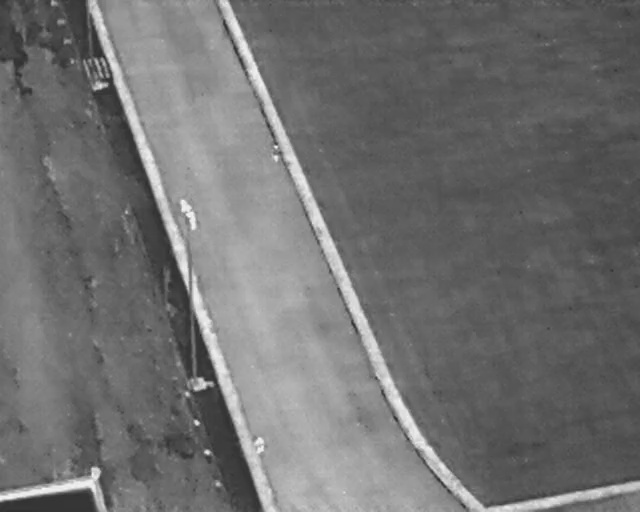Person: (271, 141, 281, 166), (185, 210, 197, 230), (178, 197, 192, 214), (255, 436, 264, 453)
